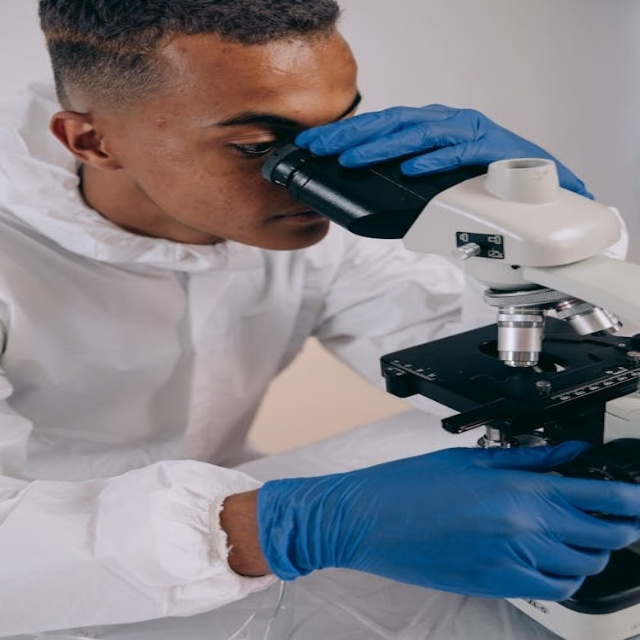Guantes: (258, 441, 638, 602), (293, 103, 595, 202)
Sin_gafas: (229, 139, 278, 158)
Sin_mascara: (266, 207, 329, 227)
